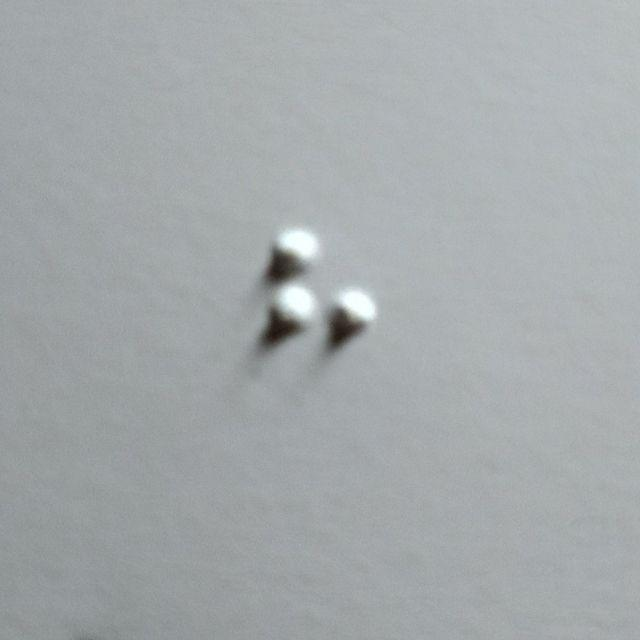h: (266, 226, 378, 400)
